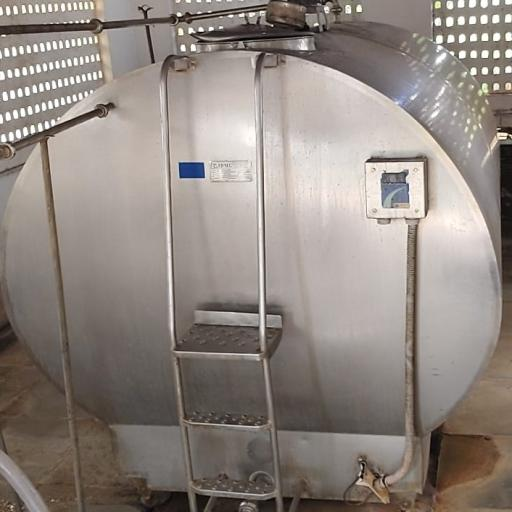silo: (0, 16, 504, 498)
